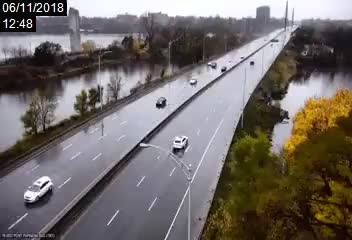personal_car: (21, 175, 56, 203), (168, 134, 192, 152), (154, 95, 167, 109), (188, 76, 201, 86), (219, 64, 227, 74), (247, 58, 256, 66), (207, 58, 212, 68), (211, 61, 217, 68)
